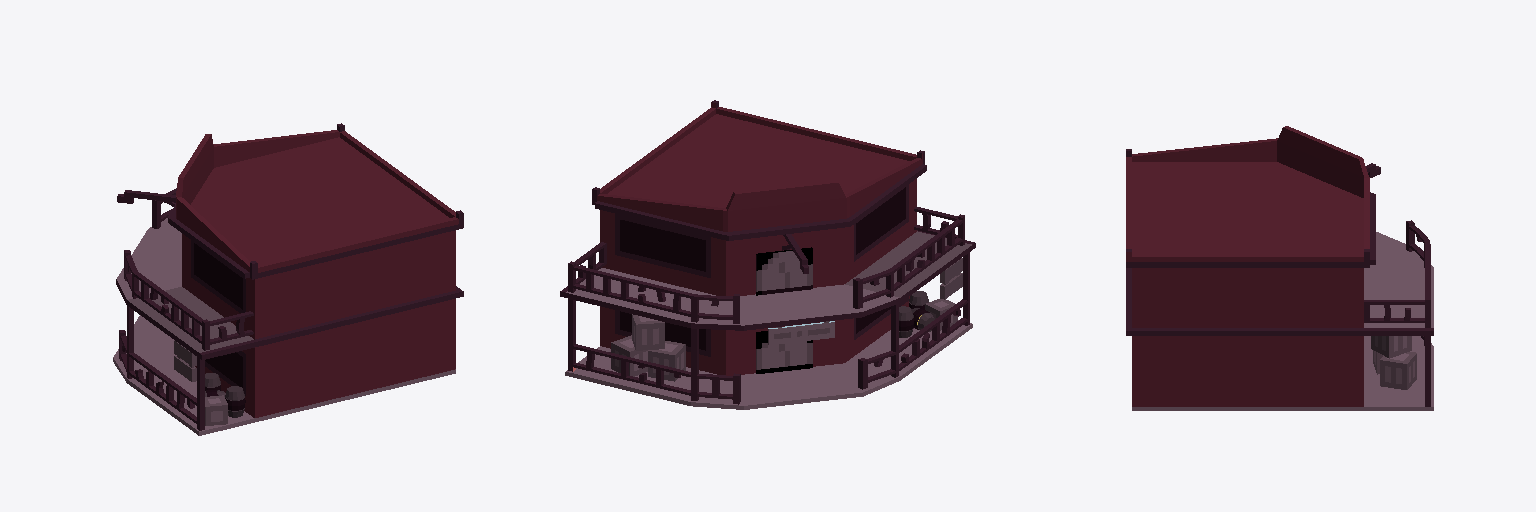
The picture shows the model from 3 angles: view 1: azimuth 30°, elevation 25°; view 2: azimuth 150°, elevation 25°; view 3: azimuth 270°, elevation 25°; orthographic projection.
Visible parts, largest first — view 1: building, t_railing_2, b_railing_2, crate_4, barrel_3, pulley; view 2: building, b_railing_1, t_railing_1, b_railing_2, t_railing_2, top door, back door, sign_panel, crate_3, crate_2, crate_1; view 3: building, t_railing_1, crate_1, crate_3.
Boxes of the visible parts, x1=… form: building: x1=113, y1=123, x2=463, y2=435; t_railing_2: x1=124, y1=250, x2=253, y2=350; b_railing_2: x1=119, y1=306, x2=204, y2=430; crate_4: x1=205, y1=395, x2=227, y2=425; barrel_3: x1=225, y1=386, x2=245, y2=417; pulley: x1=117, y1=190, x2=175, y2=206; building: x1=560, y1=100, x2=975, y2=409; b_railing_1: x1=568, y1=299, x2=740, y2=404; t_railing_1: x1=568, y1=242, x2=739, y2=323; b_railing_2: x1=858, y1=252, x2=969, y2=389; t_railing_2: x1=853, y1=206, x2=964, y2=308; top door: x1=756, y1=247, x2=812, y2=295; back door: x1=756, y1=331, x2=812, y2=373; sign_panel: x1=768, y1=321, x2=834, y2=344; crate_3: x1=632, y1=314, x2=664, y2=350; crate_2: x1=648, y1=341, x2=685, y2=381; crate_1: x1=611, y1=335, x2=647, y2=376; building: x1=1126, y1=126, x2=1433, y2=410; t_railing_1: x1=1364, y1=220, x2=1430, y2=327; crate_1: x1=1380, y1=352, x2=1416, y2=389; crate_3: x1=1371, y1=336, x2=1411, y2=358.
Size of the model in its own units: 3.25 by 2.24 by 3.31.
1 materials, 1 textured.